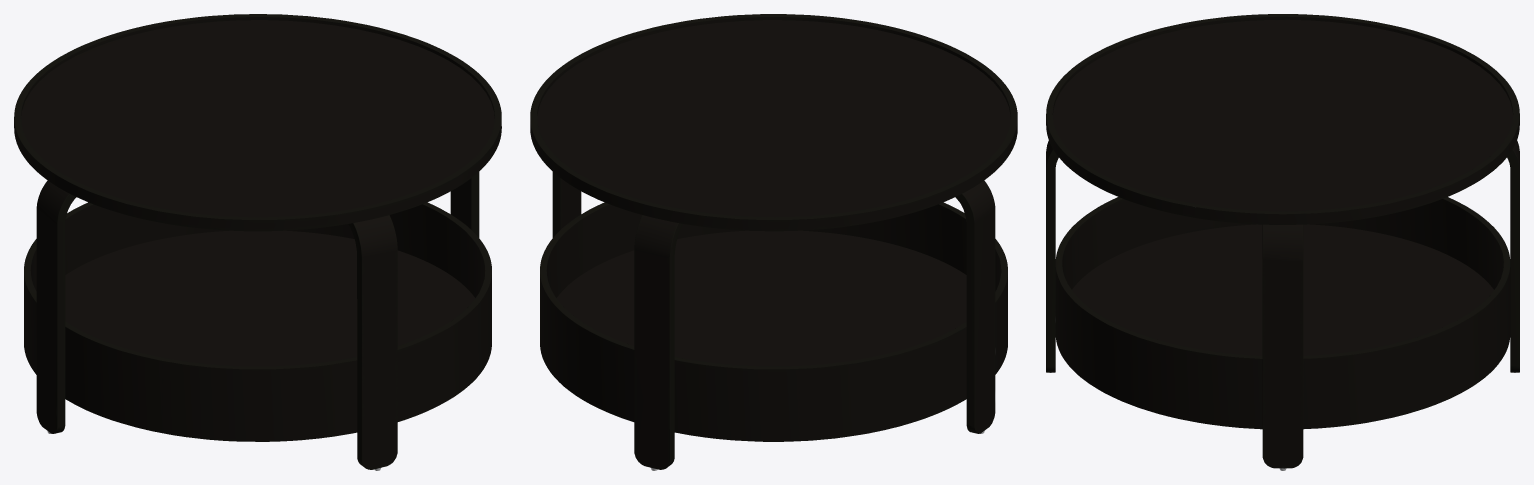
The model's file is 15 - BORGEBY Coffee table - black 70 cm.glb.
3 renders of one model, left to right at view 1: azimuth 30°, elevation 25°; view 2: azimuth 150°, elevation 25°; view 3: azimuth 270°, elevation 25°, orthographic. The views are drawn at different scales.
Parts seen in each view (by area): view 1: Mesh_0; view 2: Mesh_0; view 3: Mesh_0.
Part boxes in pixels (<box>): Mesh_0: <box>14,14,501,470</box>; Mesh_0: <box>530,14,1017,470</box>; Mesh_0: <box>1046,14,1519,470</box>.
Size of the model in its own units: 0.7 by 0.42 by 0.7.
Materials: 1 (1 with a texture image).
